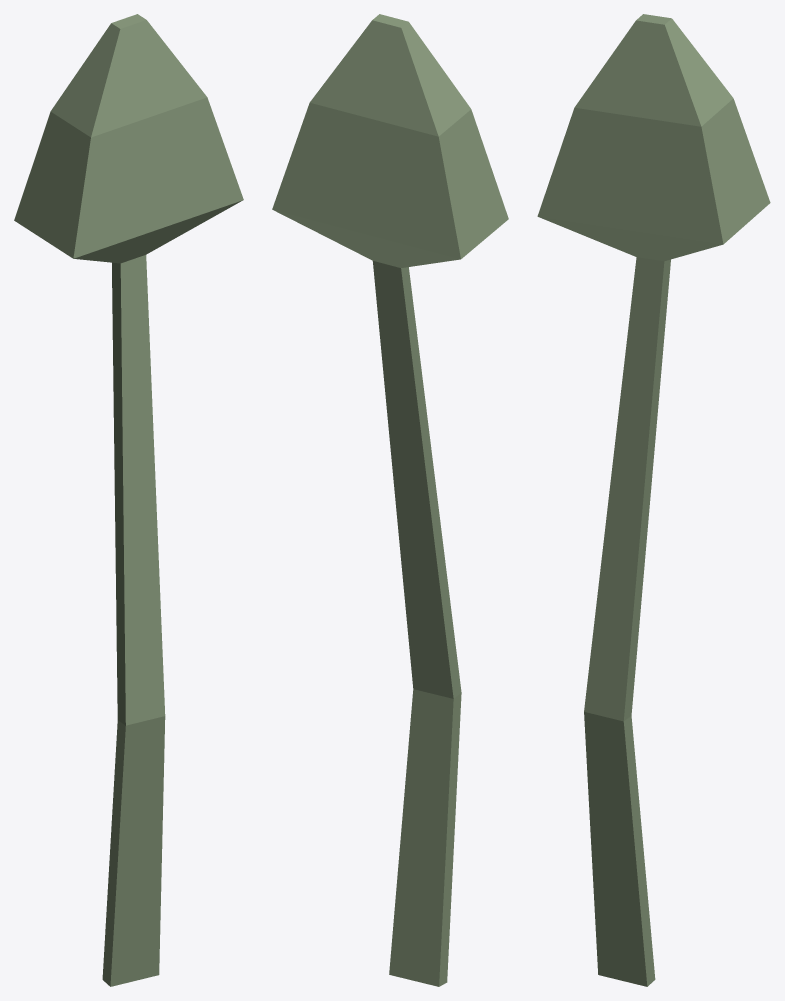
The model's file is flower_2.glb.
The picture shows the model from 3 angles, left to right: view 1: azimuth 30°, elevation 25°; view 2: azimuth 150°, elevation 25°; view 3: azimuth 330°, elevation 25°; orthographic projection. The views are drawn at different scales.
Parts seen in each view (by area): view 1: Flower_2_Plane.019; view 2: Flower_2_Plane.019; view 3: Flower_2_Plane.019.
Boxes of the visible parts, <box> form: Flower_2_Plane.019: <box>14,14,243,986</box>; Flower_2_Plane.019: <box>272,14,508,986</box>; Flower_2_Plane.019: <box>537,14,770,986</box>.
Size of the model in its own units: 0.0839 by 0.4117 by 0.0499.
